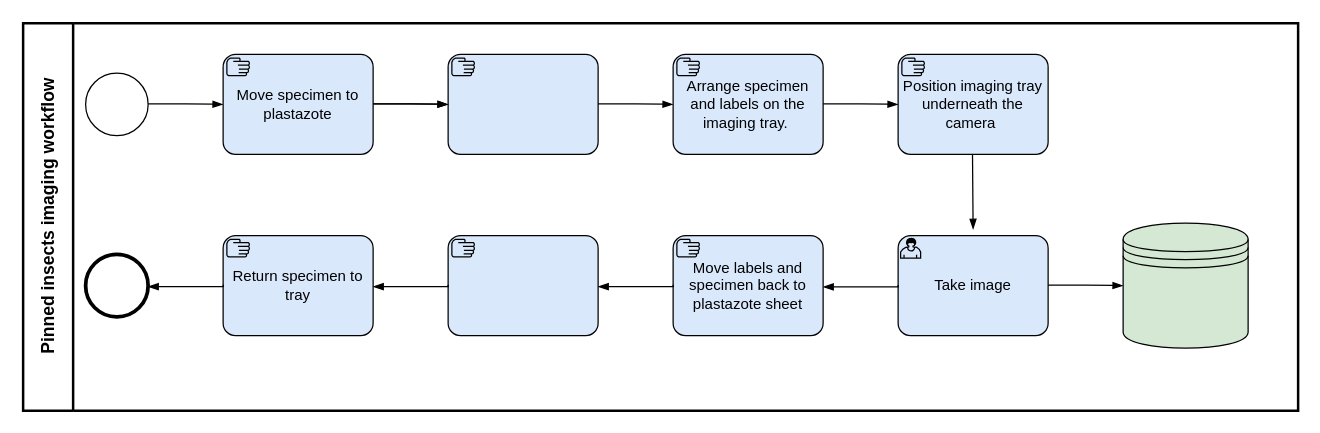
This 1320x433 diagram has some shape labels left out. The box of each missing label's shape, as (x1, y1, x2, y2) in pixels:
Image saved to computer: (1122, 222, 1248, 348)
Reattach label to pin: (447, 234, 598, 336)
Remove labels from pin: (447, 53, 598, 154)
